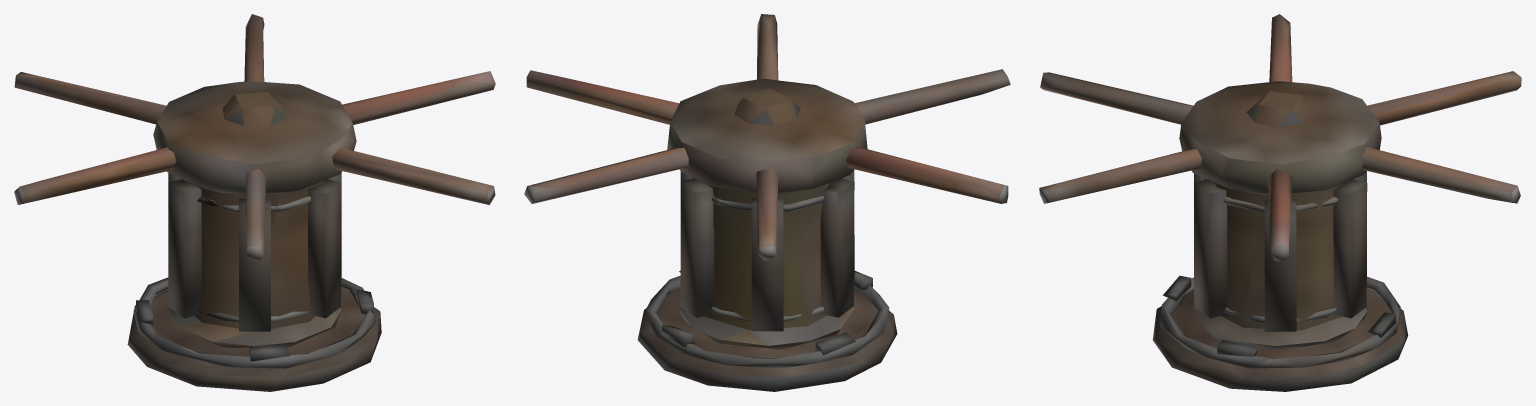
Rendered from capstan_far.glb.
3 renders of one model, left to right at view 1: azimuth 30°, elevation 25°; view 2: azimuth 150°, elevation 25°; view 3: azimuth 270°, elevation 25°, orthographic.
Visible parts, largest first — view 1: drum, capstan_body; view 2: drum, capstan_body; view 3: drum, capstan_body.
Boxes of the visible parts, left/top/right/bottom form: drum: left=14, top=14, right=495, bottom=347; capstan_body: left=127, top=277, right=381, bottom=391; drum: left=524, top=14, right=1010, bottom=349; capstan_body: left=637, top=270, right=897, bottom=391; drum: left=1039, top=14, right=1521, bottom=350; capstan_body: left=1152, top=275, right=1408, bottom=391.
Size of the model in its own units: 1.98 by 0.9582 by 1.74.
1 material, 1 textured.
